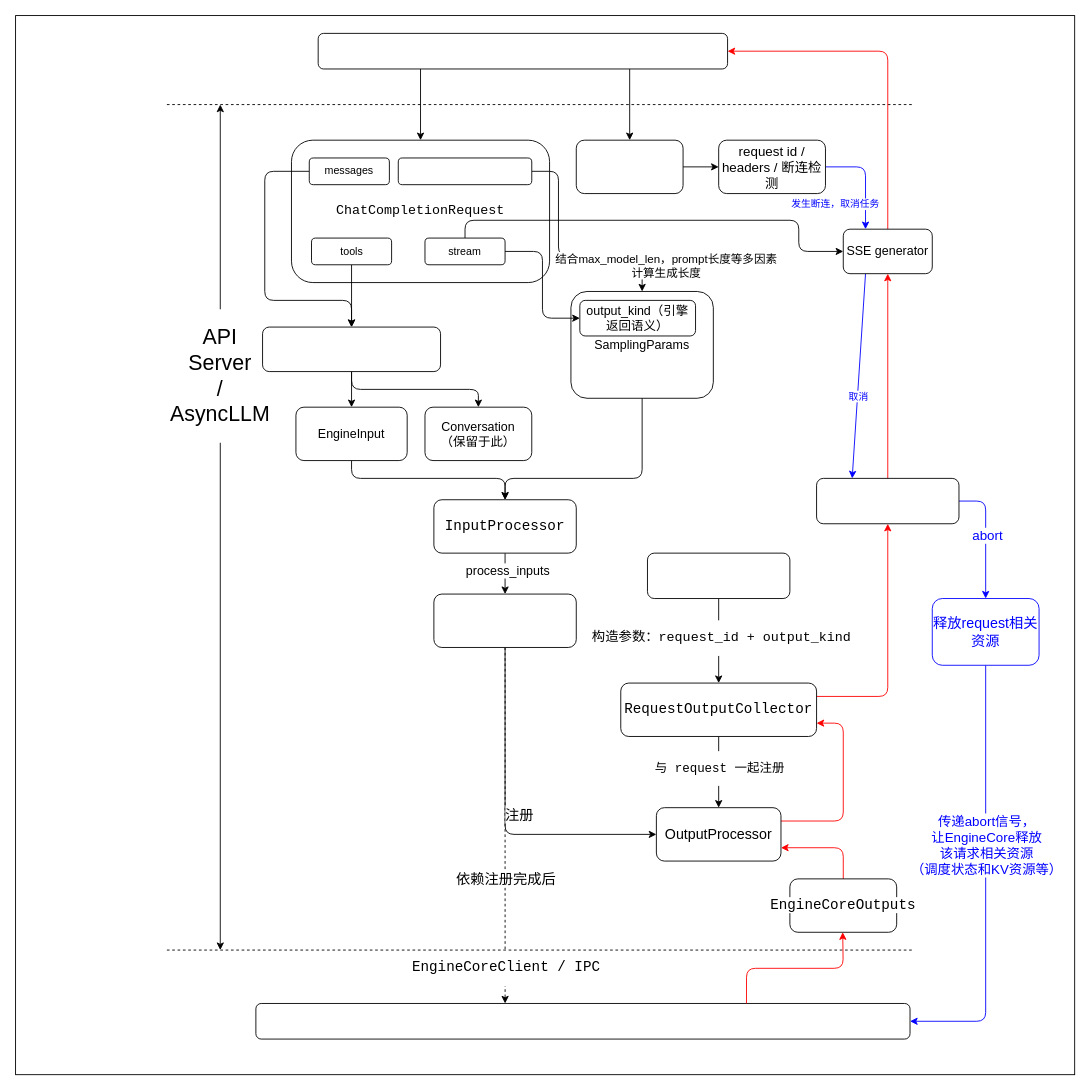
This 1090x1090 diagram has some shape labels left out. The centre of each missing label's shape, as x and y in pixels:
"AsyncLLM创建" goes at point 718,575.
"Chat Render（ 渲染整合提示词与多模态信息）" goes at point 351,349.
"EngineCore" goes at point 582,1021.
"EngineCoreRequest" goes at point 504,620.
"generate()" goes at point 887,500.
"raw request" goes at point 629,166.
"外界网络" goes at point 522,50.
"采样(temp/top_p/max_tokens)" goes at point 464,171.
